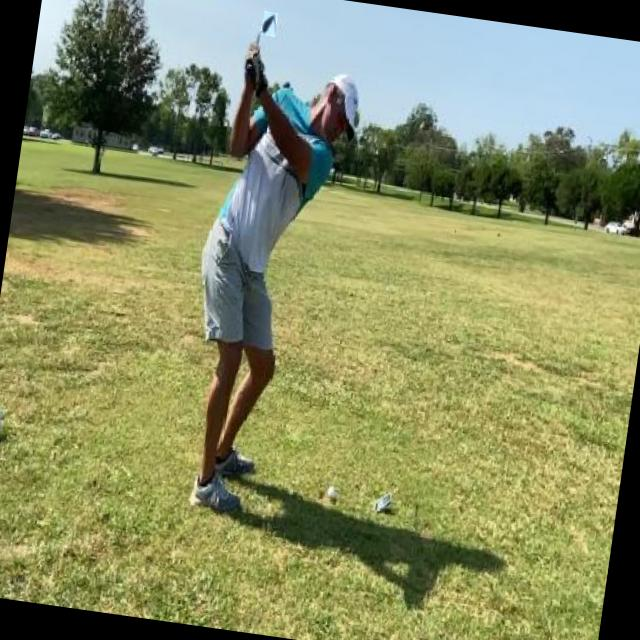club head: (261, 11, 278, 37)
